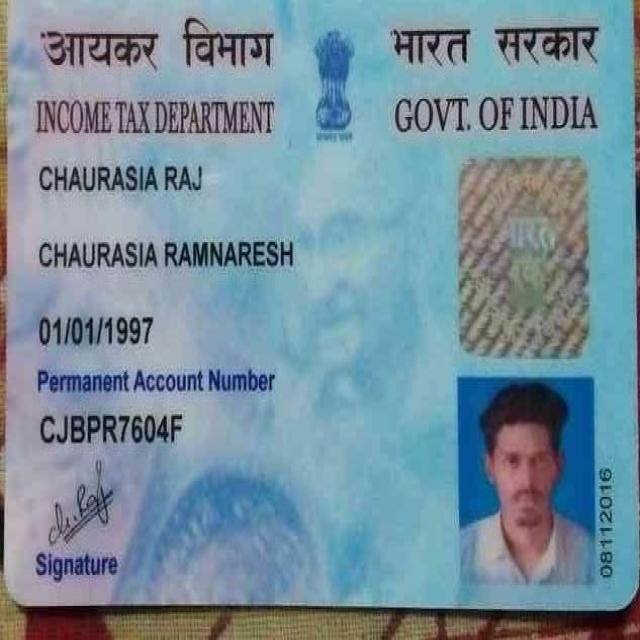pan_card: (9, 2, 634, 603)
